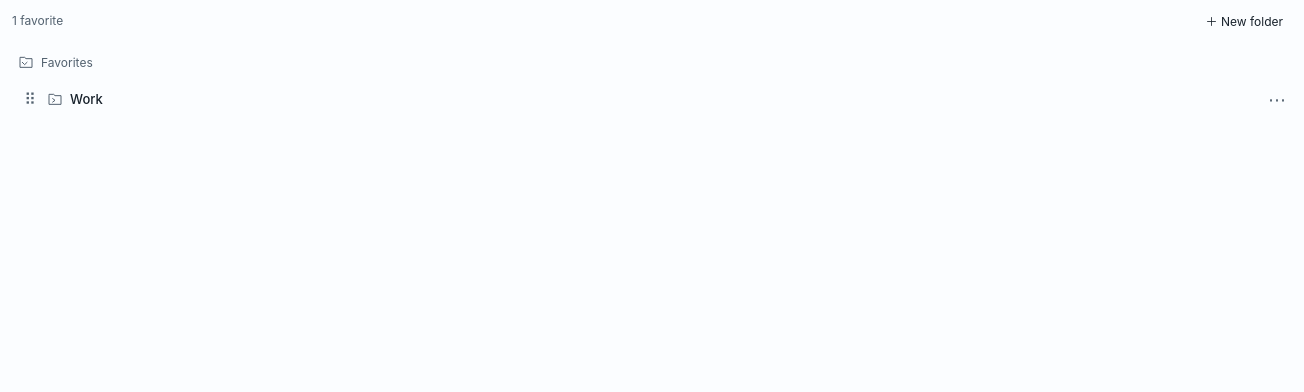
gates rename on Controller capability and connection: true
Click the button "Work" at (86, 99), box [45,82,1262,116]
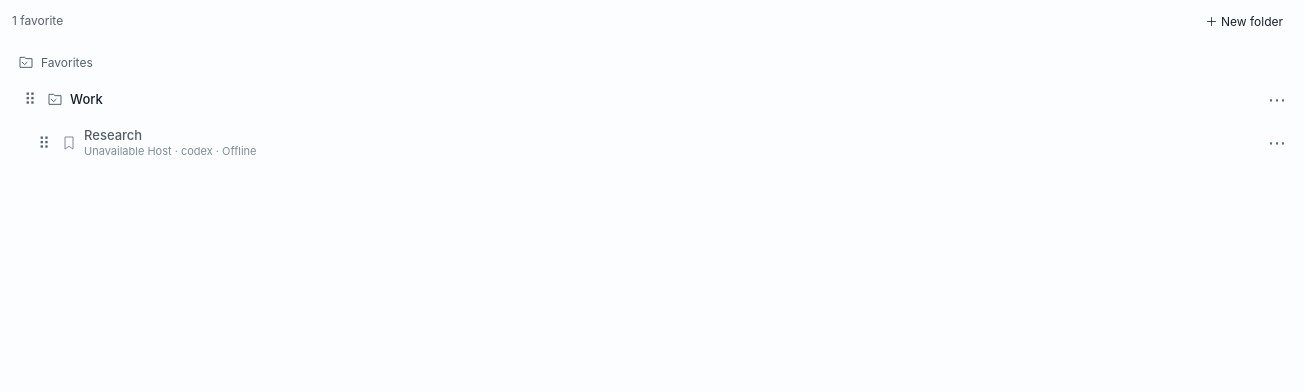
Click the button named "Actions for Research" at (1277, 143), box [1265,127,1289,159]
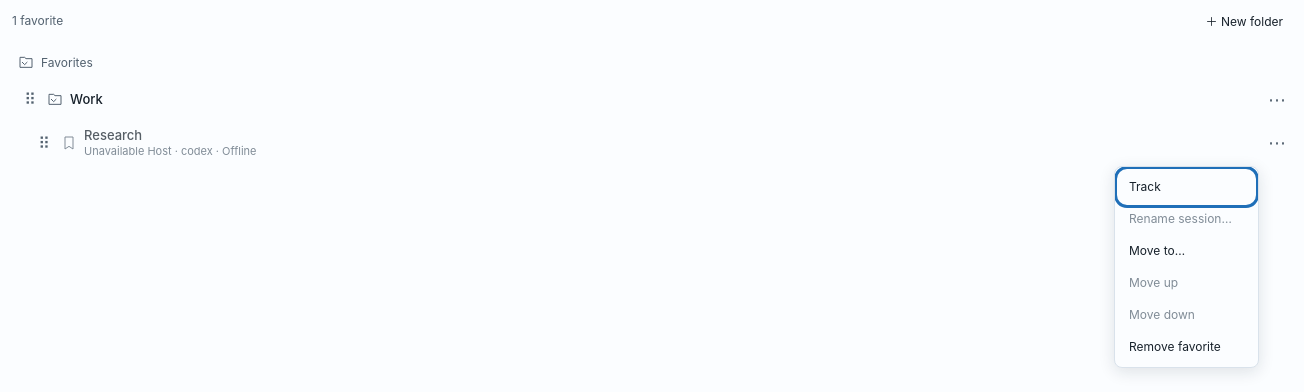
Result: the button "Rename session…" is disabled at [1119,203,1254,235]
